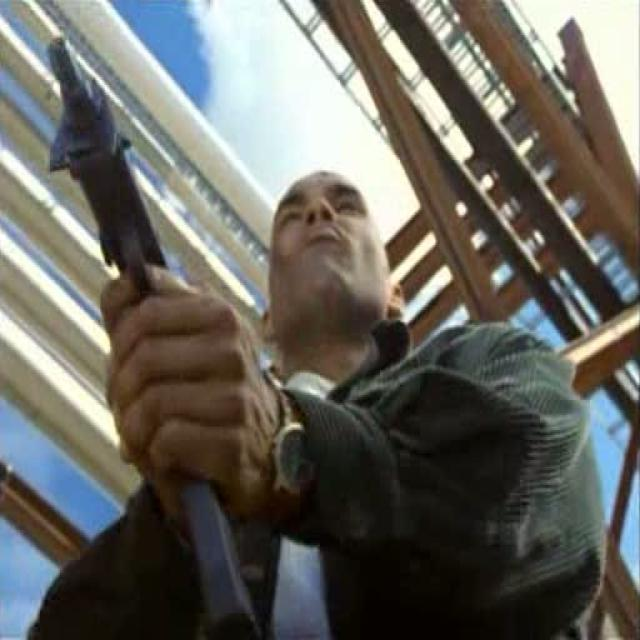rifle: (41, 39, 276, 640)
